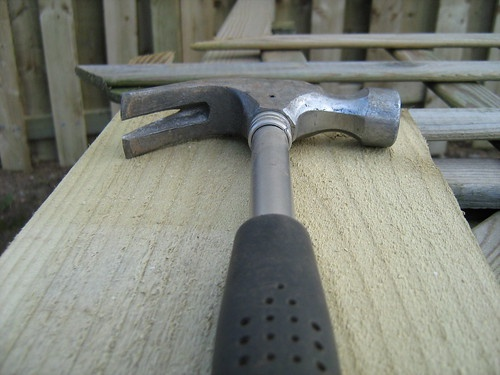hammer: (120, 74, 408, 375)
